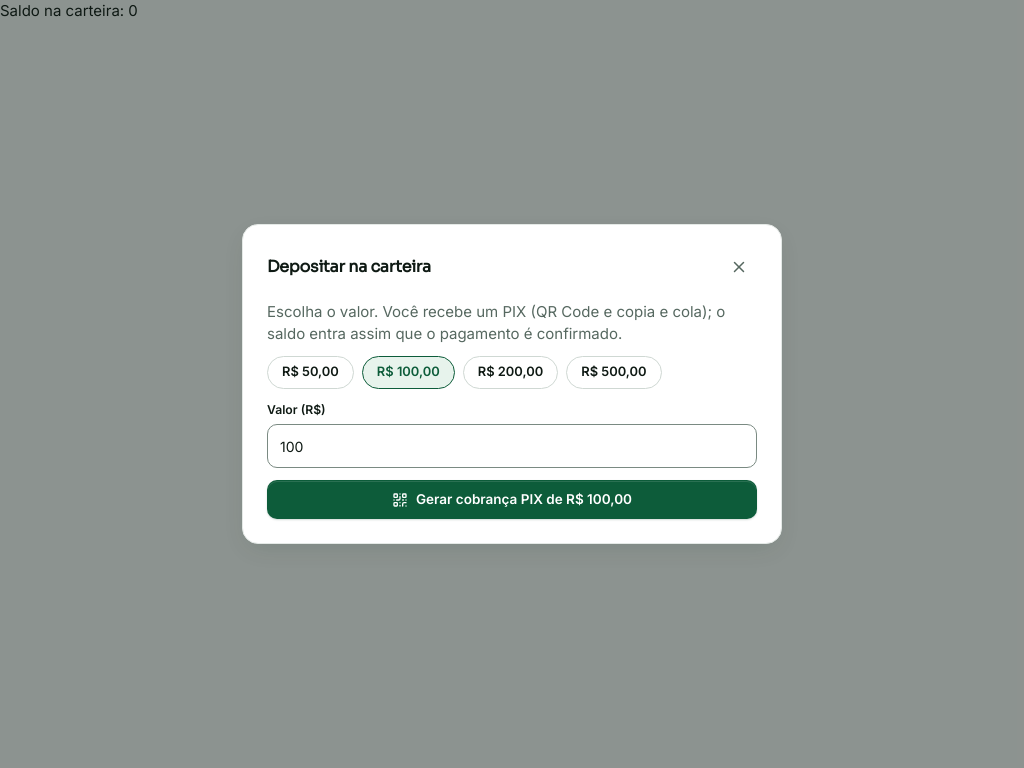
Scenario: DepositModal: escolher o valor › API recusa a cobrança: mostra a mensagem dela e o formulário continua
The image size is (1024, 768).
Step 1. Click the button "Gerar cobrança PIX de R$ 100,00" → (512, 500), box [267, 480, 757, 519]
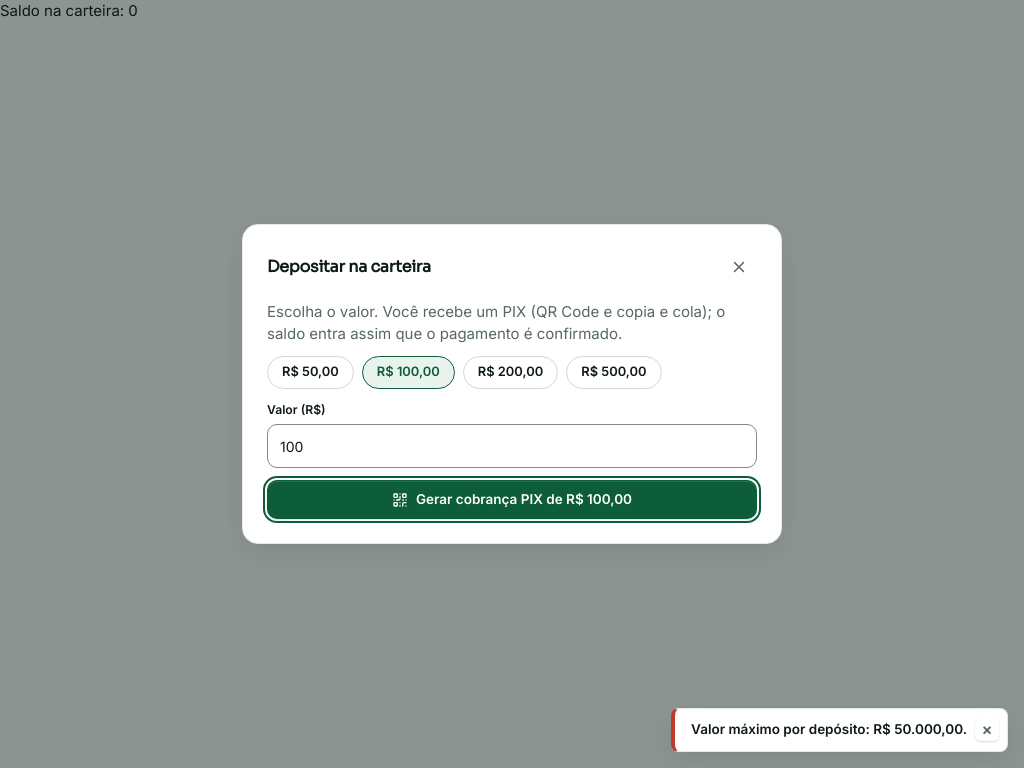
Expected: the number field labelled "Valor (R$)" holds "100", [267, 424, 757, 468]
Expected: the text "Valor máximo por depósito: R$ 50.000,00." is shown, [691, 720, 967, 740]
